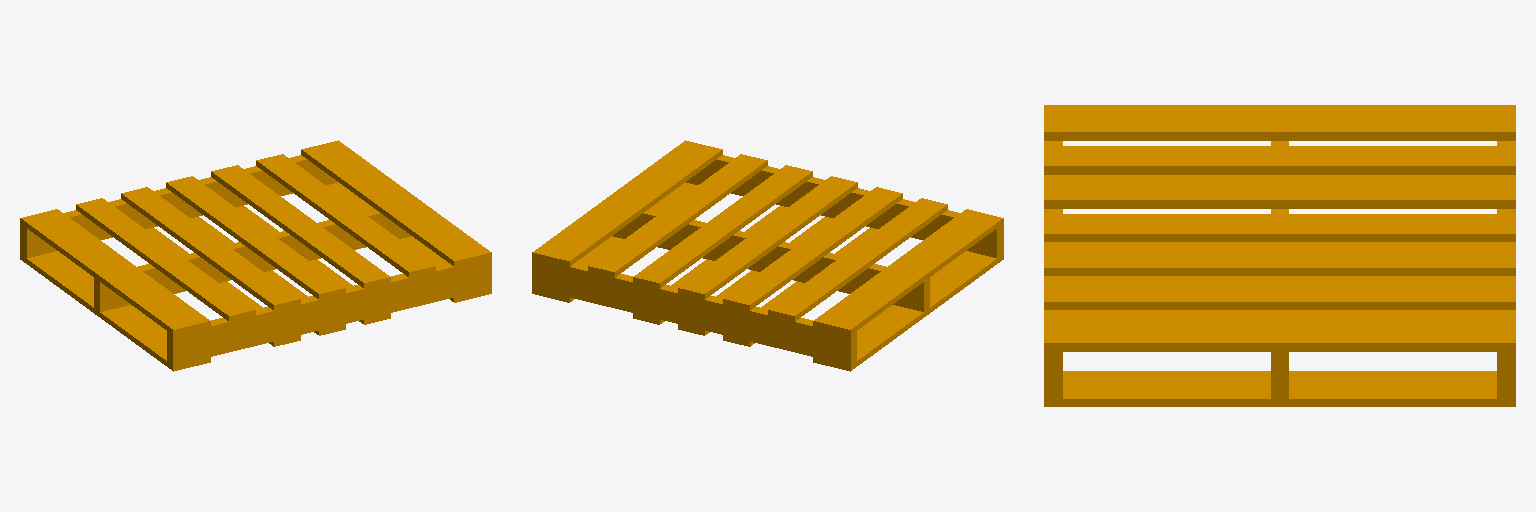
URDF robot description (cube.urdf):
<?xml version="0.0" ?>
<robot name="cube.urdf">
  <link name="baseLink">
    <contact>
      <lateral_friction value="1.0"/>
      <rolling_friction value="0.0001"/>
      <inertia_scaling value="3.0"/>
    </contact>
    <inertial>
      <origin rpy="0 0 0" xyz="0 0 0"/>
       <mass value=".1"/>
       <inertia ixx="1" ixy="0" ixz="0" iyy="1" iyz="0" izz="1"/>
    </inertial>
    <visual>
      <origin rpy="0 0 0" xyz="0 0 0"/>
      <geometry>
        <mesh filename="pallet.obj" scale="0.25 0.25 0.25"/>
      </geometry>
      <material name="light wood yellow">
        <color rgba="0.8706, 0.7216, 0.5294 1"/>
      </material>
    </visual>
    <collision>
      <origin rpy="0 0 0" xyz="0 0 0"/>
      <geometry>
        <mesh filename="pallet.obj" scale="0.25 0.25 0.25"/>
      </geometry>
    </collision>
  </link>
</robot>


--- Render facts (derived) ---
3 views of the same robot in one strip: view 1: azimuth 30°, elevation 25°; view 2: azimuth 150°, elevation 25°; view 3: azimuth 270°, elevation 25° (orthographic).
Model cube.urdf with 1 links and 0 joints (none), rooted at baseLink, posed all joints at 0.
Links seen in each view (by area): view 1: baseLink; view 2: baseLink; view 3: baseLink.
Link boxes in pixels (bbox=[...]): baseLink: bbox=[20, 140, 491, 371]; baseLink: bbox=[532, 140, 1003, 371]; baseLink: bbox=[1044, 105, 1515, 406].
Size in the robot's own frame: 0.3 by 0.25 by 0.0375 metres.
1 mesh visuals loaded from 1 distinct referenced files (1 OBJ).